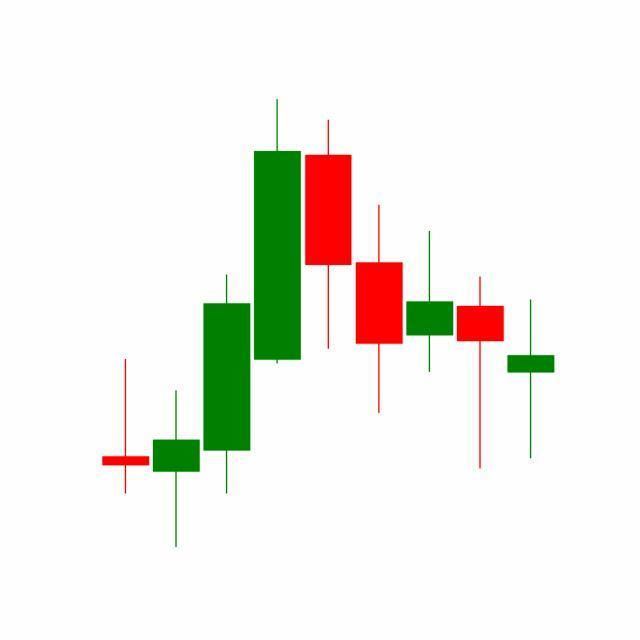Hikkake Pattern: (252, 100, 506, 475)
